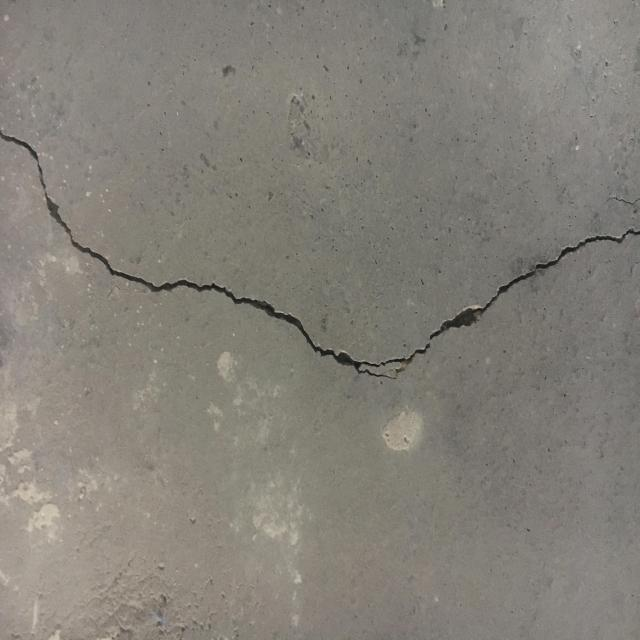SurfaceCrack: (1, 164, 640, 402)
